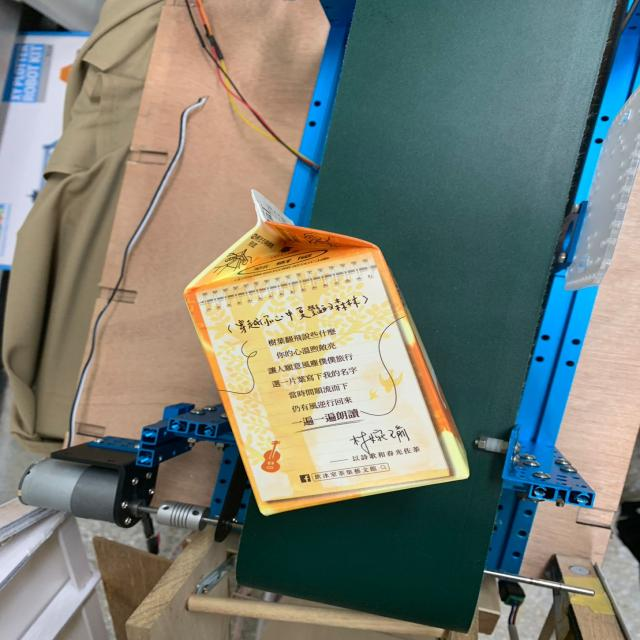non_white_jug: (153, 182, 507, 543)
